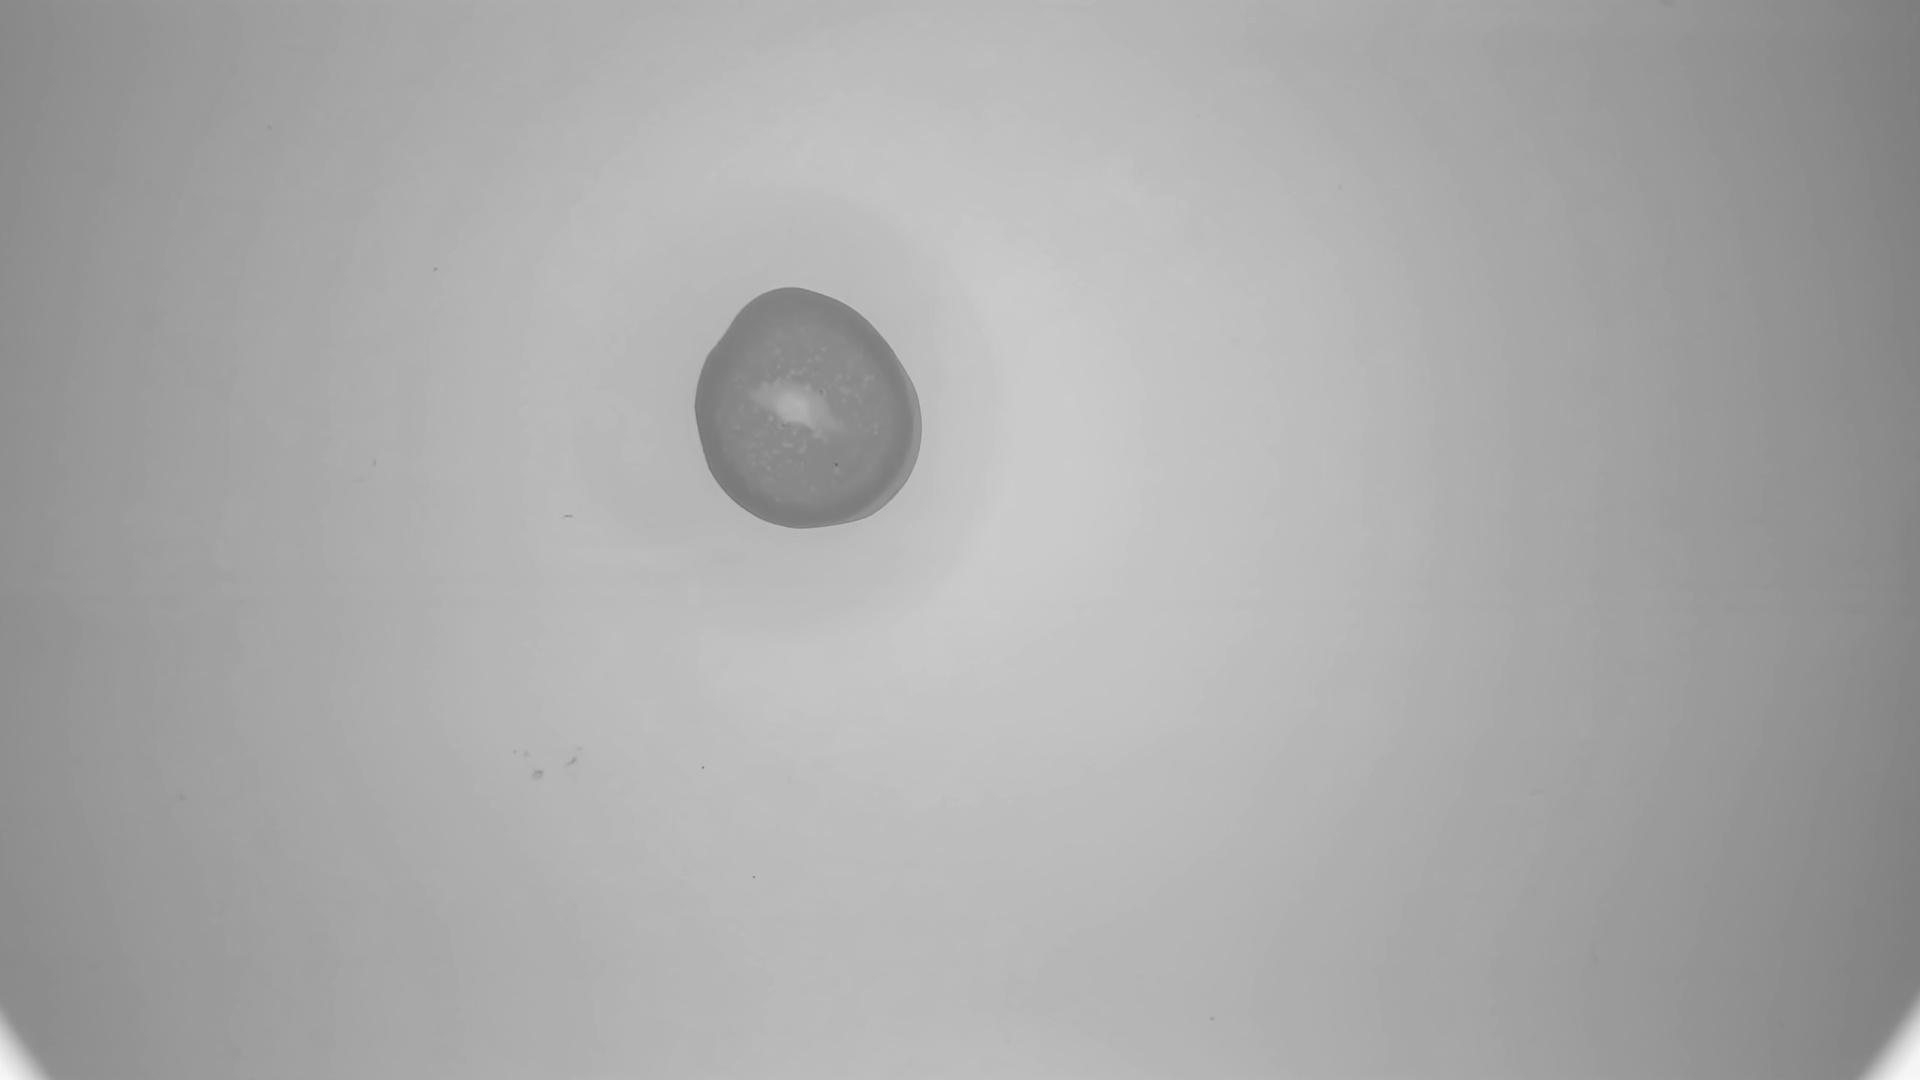abnormal: (696, 286, 928, 533)
